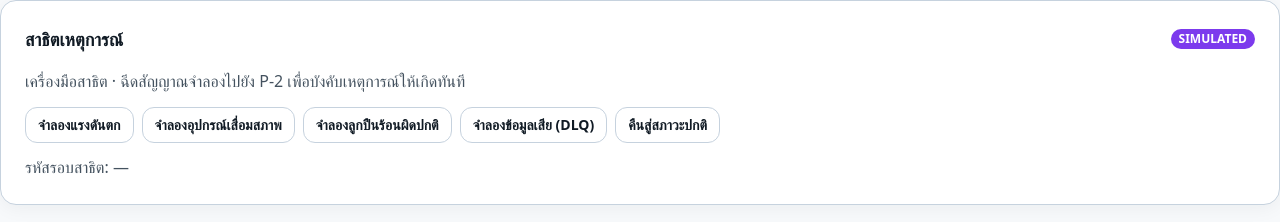
Test: enabled panel › POSTs the mode and target, then shows the returned run_id
The image size is (1280, 222).
Click the button "จำลองแรงดันตก" at (79, 125), box [25, 107, 134, 143]
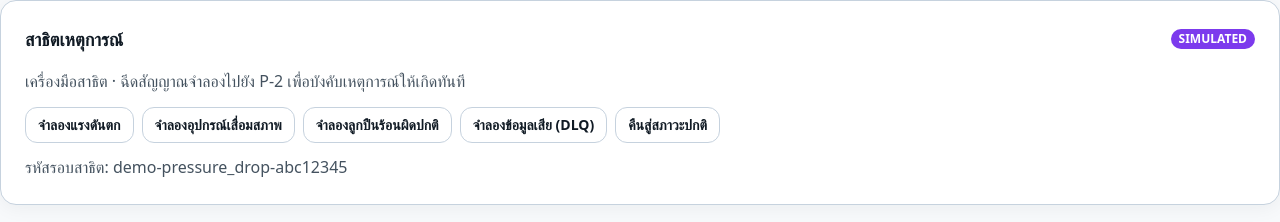
Expected: the text with test id "demo-run-id" reads "demo-pressure_drop-abc12345", [113, 156, 348, 178]
